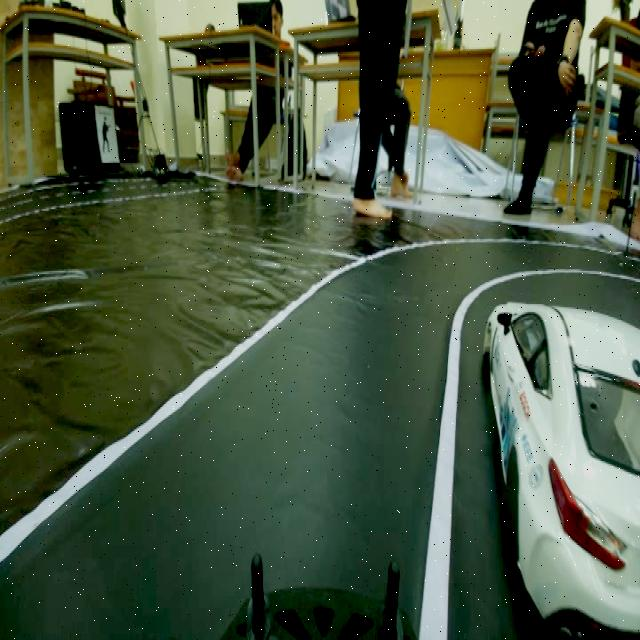car: (460, 253, 640, 628)
